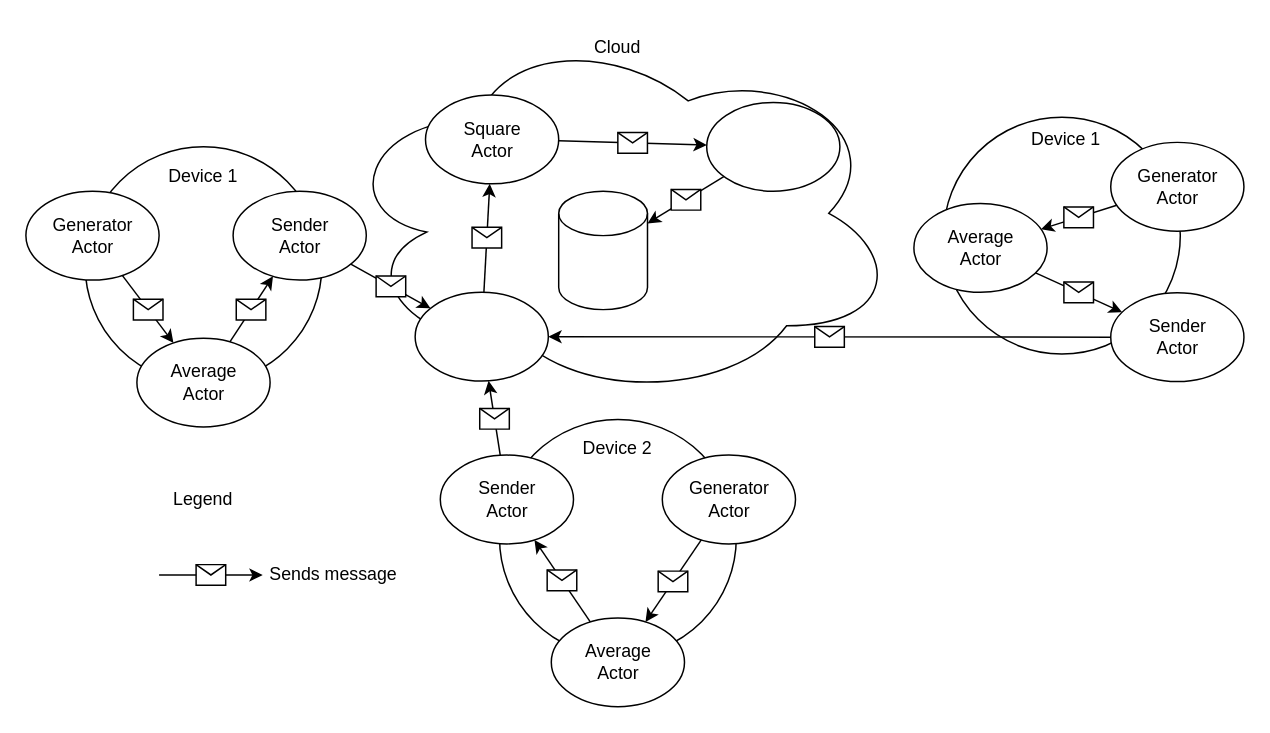
The diagram is 1270 pixels wide and 733 high, and some of its shapes have lost their labels. Each missing label, with the centre of its shape:
Database Actor: (772,146)
Receiver Actor: (481,336)
